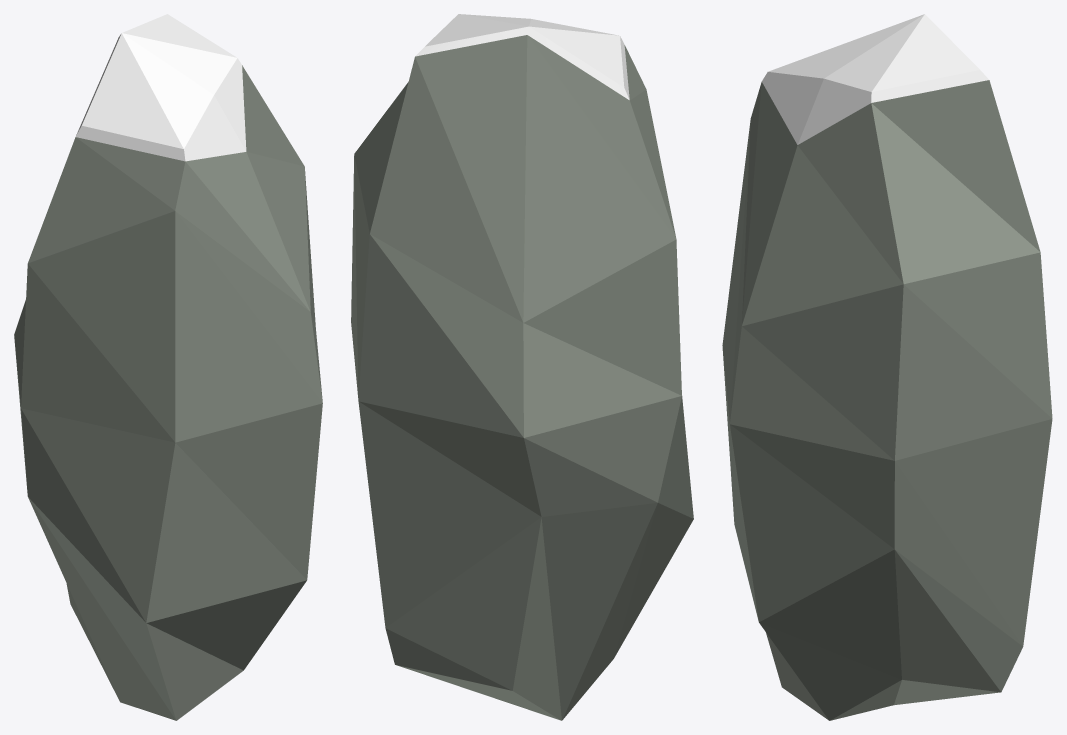
Rendered from Rock_Dark_Snow_2.fbx.
3 views of the same model, side by side, from view 1: azimuth 30°, elevation 25°; view 2: azimuth 150°, elevation 25°; view 3: azimuth 270°, elevation 25° (orthographic). The views are drawn at different scales.
Parts seen in each view (by area): view 1: Rock_Dark_Snow_2; view 2: Rock_Dark_Snow_2; view 3: Rock_Dark_Snow_2.
Part boxes in pixels (x1=…): Rock_Dark_Snow_2: x1=14, y1=14, x2=322, y2=720; Rock_Dark_Snow_2: x1=351, y1=14, x2=693, y2=720; Rock_Dark_Snow_2: x1=722, y1=14, x2=1052, y2=720.
Size of the model in its own units: 2 by 4.14 by 1.77.
